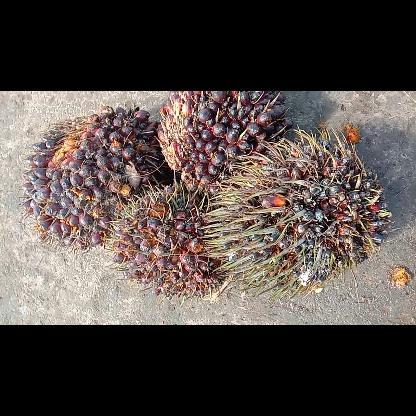Kurang masak: (157, 92, 292, 194), (108, 188, 226, 296)
TBS abnormal: (204, 128, 390, 294)
TBS masak: (22, 105, 166, 251)
